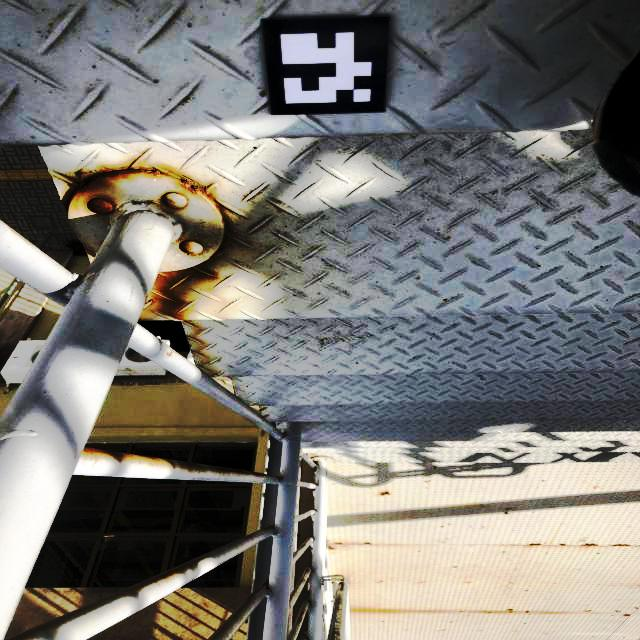Corrosion: (64, 168, 160, 208), (80, 447, 206, 473), (180, 179, 203, 195), (89, 199, 111, 214), (579, 543, 598, 546), (380, 491, 391, 496), (182, 247, 190, 253), (527, 543, 542, 546), (610, 544, 632, 546), (164, 199, 170, 205), (332, 542, 343, 545), (622, 614, 631, 617), (364, 542, 371, 545), (329, 546, 334, 550), (167, 352, 171, 356), (560, 544, 567, 546), (585, 610, 592, 612), (508, 609, 514, 611), (615, 610, 621, 612), (504, 512, 509, 514), (635, 606, 638, 609), (509, 611, 513, 613), (526, 611, 530, 613), (488, 612, 492, 613)
